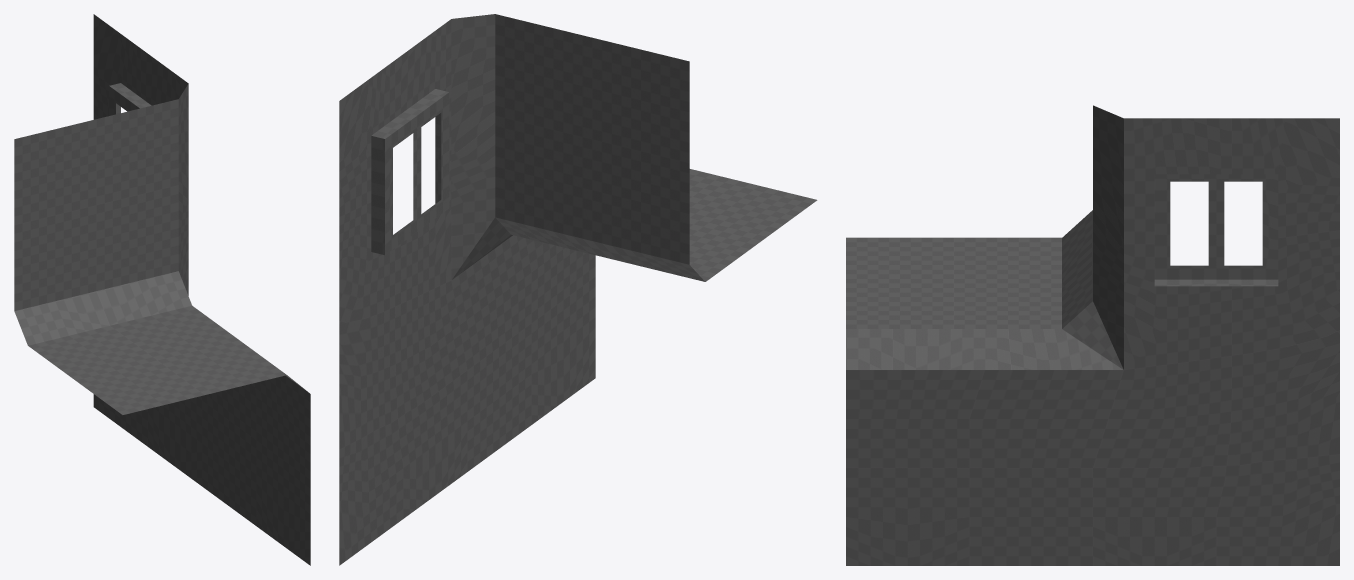
The picture shows the model from 3 angles, left to right: view 1: azimuth 30°, elevation 25°; view 2: azimuth 150°, elevation 25°; view 3: azimuth 270°, elevation 25°; orthographic projection. The views are drawn at different scales.
Parts seen in each view (by area): view 1: 1; view 2: 1; view 3: 1.
Boxes of the visible parts, left/top/right/bottom form: 1: left=14, top=14, right=310, bottom=565; 1: left=339, top=14, right=817, bottom=565; 1: left=846, top=105, right=1339, bottom=565.
Bounding box in the file's own units: 2 × 4 × 4.
Materials: 2 (2 with a texture image).
